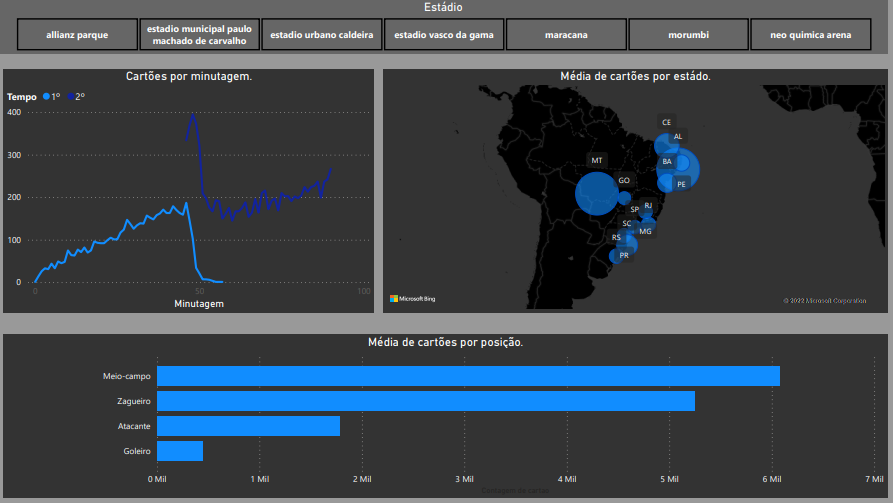

This screenshot's page, from the dashboard's own definition file:
{"tool":"powerbi","page":{"name":"Página 1","canvas":[1280,720],"ordinal":0},"visuals":[{"type":"barChart","title":"Média de cartões por posição.","fields":{"Category":["public brasileirao_cartoes2.posicao"],"Y":["public brasileirao_cartoes2.cartao"]},"box":[7.4,477.2,1262.1,233.9],"z":0},{"type":"lineChart","title":"Cartões por minutagem.","fields":{"Category":["public brasileirao_cartoes2.minuto"],"Series":["public brasileirao_cartoes2.tempo"],"Y":["public brasileirao_cartoes2.Media_cartoes_minuto"]},"box":[7,98.1,529.4,348.3],"z":1000},{"type":"map","title":"Média de cartões por estádo.","fields":{"Category":["public brasileirao_full.mandante_estado"],"Size":["public brasileirao_cartoes2.Media_cartoes_estado"]},"box":[549.4,98.1,719.6,348.3],"z":2000},{"type":"slicer","title":"Estádio","fields":{"Values":["public brasileirao_full.arena"]},"box":[0,0,1270,77.1],"z":3000}]}

Visuals, with their boxes in screenshot pixels (x1, y1, x2, y2), scaled from the page's 1280x720 canvas onto the 893x503 screenshot:
"Média de cartões por posição." barChart: 5/333/886/497
"Cartões por minutagem." lineChart: 5/69/374/312
"Média de cartões por estádo." map: 383/69/885/312
"Estádio" slicer: 0/0/886/54
